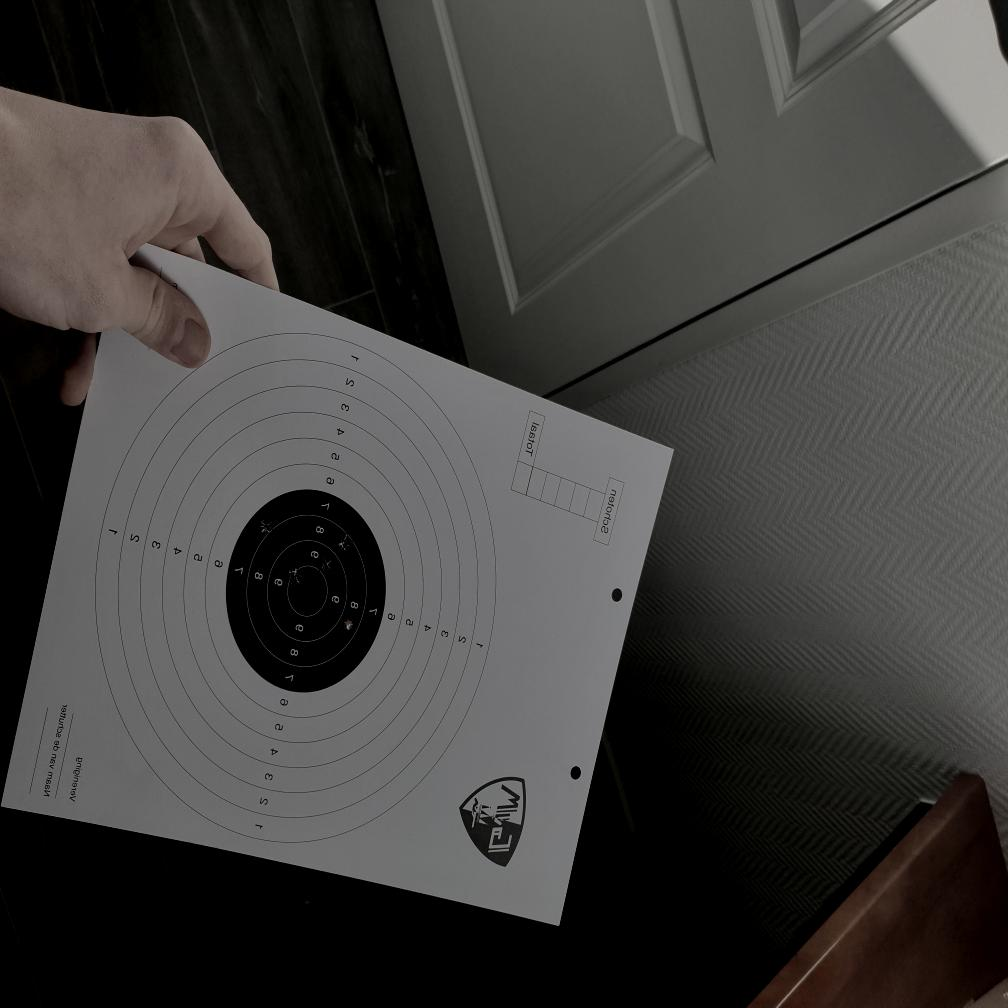10: (287, 564, 305, 587), (318, 556, 333, 576)
8: (334, 530, 354, 551), (259, 515, 274, 536), (342, 618, 354, 631)
Target: (96, 333, 501, 844)
black_contour: (226, 489, 385, 695)
